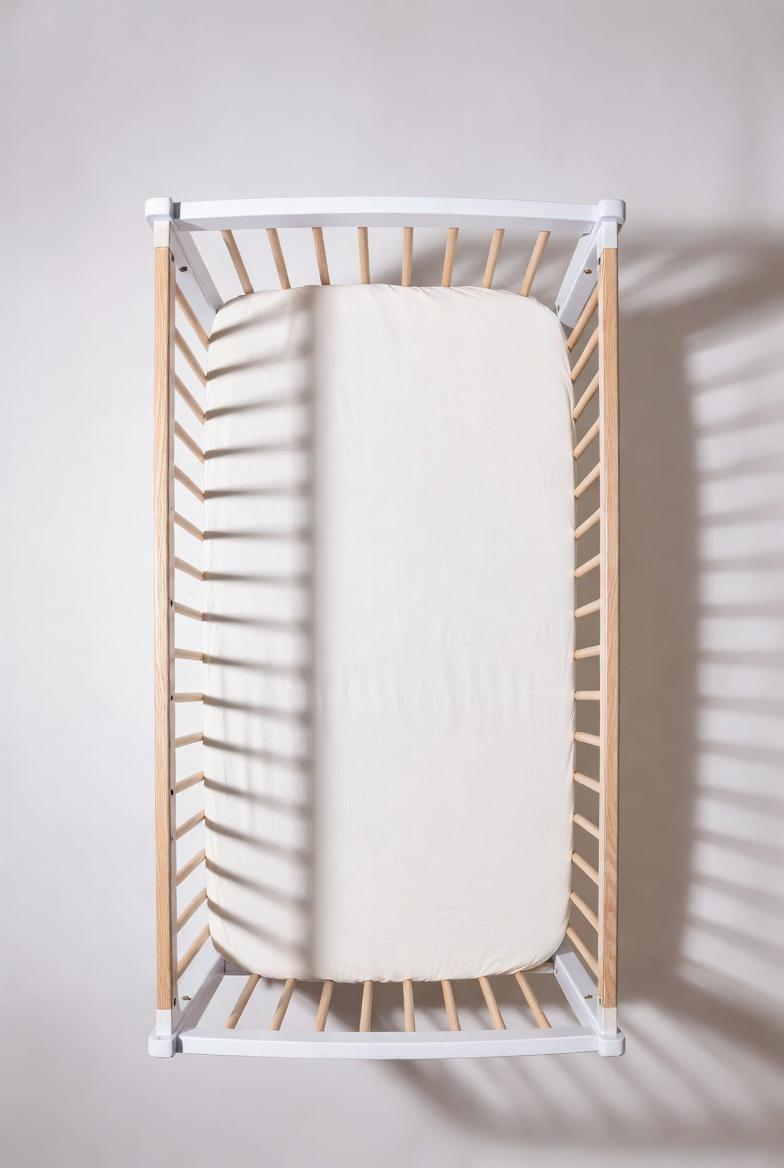crib: (146, 198, 625, 1058)
